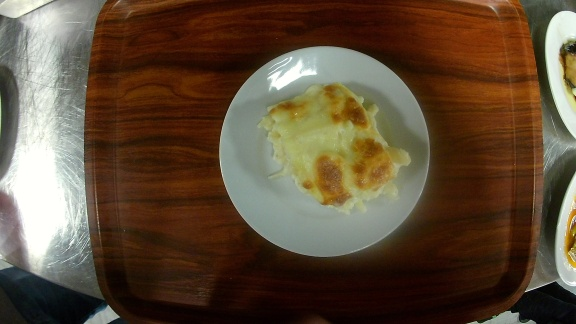firinmakarna: (217, 43, 433, 258)
